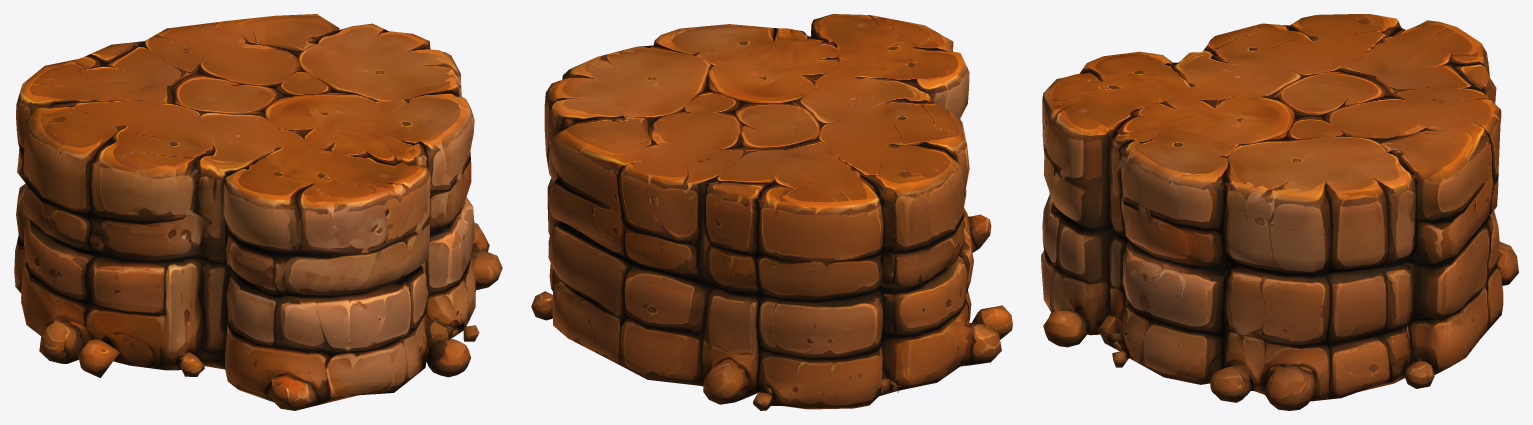
File: bloque_de_piedras.fbx
3 views of the same model, side by side, from view 1: azimuth 30°, elevation 25°; view 2: azimuth 150°, elevation 25°; view 3: azimuth 270°, elevation 25° (orthographic).
Parts seen in each view (by area): view 1: tripo_node_a53cd3fa; view 2: tripo_node_a53cd3fa; view 3: tripo_node_a53cd3fa.
Boxes of the visible parts, box(x1,y1,x2,y2) form: tripo_node_a53cd3fa: box(14, 14, 502, 410); tripo_node_a53cd3fa: box(531, 14, 1012, 410); tripo_node_a53cd3fa: box(1041, 14, 1518, 410).
Size of the model in its own units: 99.45 by 44.68 by 92.46.
1 material, 1 textured.
